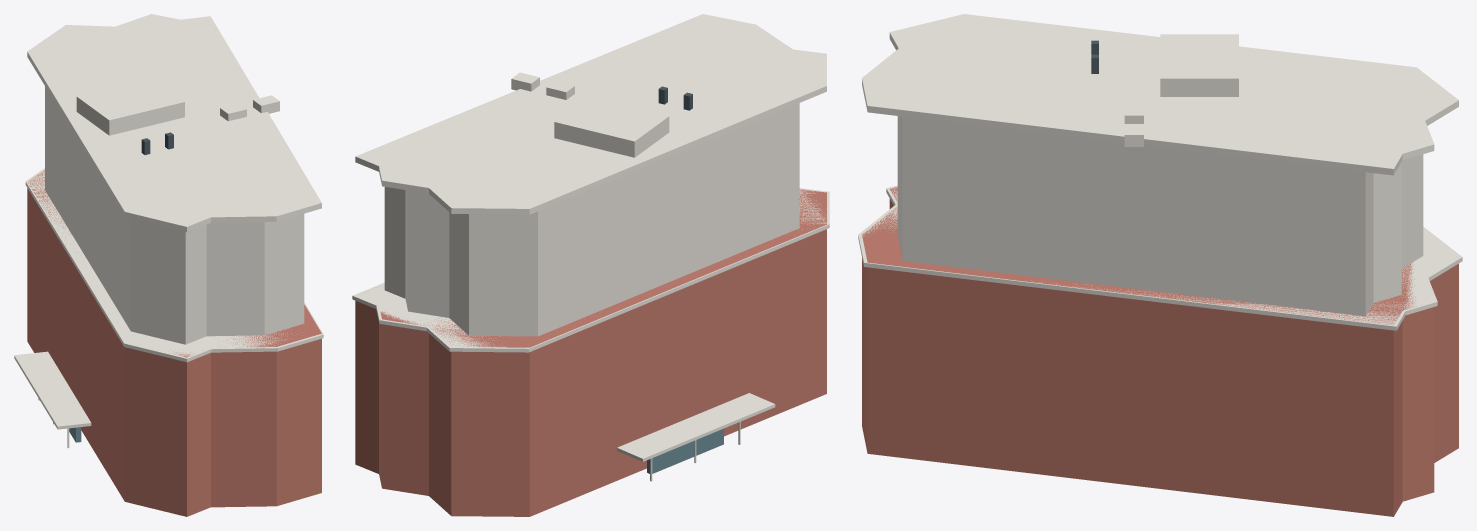
Rendered from mong_man_wai_building.glb.
The picture shows the model from 3 angles, left to right: view 1: azimuth 30°, elevation 25°; view 2: azimuth 150°, elevation 25°; view 3: azimuth 270°, elevation 25°; orthographic projection. The views are drawn at different scales.
Parts seen in each view (by area): view 1: Mong Man Wai Building_base, Mong Man Wai Building_parapet, Mong Man Wai Building_upper, Mong Man Wai Building_band, Mong Man Wai Building_roof_plant, Mong Man Wai Building_canopy, Mong Man Wai Building_ac_1, Mong Man Wai Building_ac_0; view 2: Mong Man Wai Building_base, Mong Man Wai Building_upper, Mong Man Wai Building_parapet, Mong Man Wai Building_band, Mong Man Wai Building_roof_plant, Mong Man Wai Building_canopy, Mong Man Wai Building_door; view 3: Mong Man Wai Building_base, Mong Man Wai Building_upper, Mong Man Wai Building_parapet, Mong Man Wai Building_band, Mong Man Wai Building_roof_plant.
Part boxes in pixels (x1,y1,x2,y2): Mong Man Wai Building_base: (27,170,321,516); Mong Man Wai Building_parapet: (27,14,321,232); Mong Man Wai Building_upper: (45,86,304,344); Mong Man Wai Building_band: (25,168,323,362); Mong Man Wai Building_roof_plant: (76,78,184,135); Mong Man Wai Building_canopy: (14,351,91,429); Mong Man Wai Building_ac_1: (253,95,279,113); Mong Man Wai Building_ac_0: (220,103,246,121); Mong Man Wai Building_base: (355,189,826,516); Mong Man Wai Building_upper: (384,103,799,336); Mong Man Wai Building_parapet: (355,14,826,214); Mong Man Wai Building_band: (352,188,829,352); Mong Man Wai Building_roof_plant: (554,96,669,157); Mong Man Wai Building_canopy: (617,393,775,461); Mong Man Wai Building_door: (647,428,723,473); Mong Man Wai Building_base: (862,187,1458,516); Mong Man Wai Building_upper: (897,116,1423,316); Mong Man Wai Building_parapet: (862,14,1458,175); Mong Man Wai Building_band: (858,185,1462,330); Mong Man Wai Building_roof_plant: (1160,34,1238,96).
Bounding box in the file's own units: 29.2 × 30.9 × 46.2.
